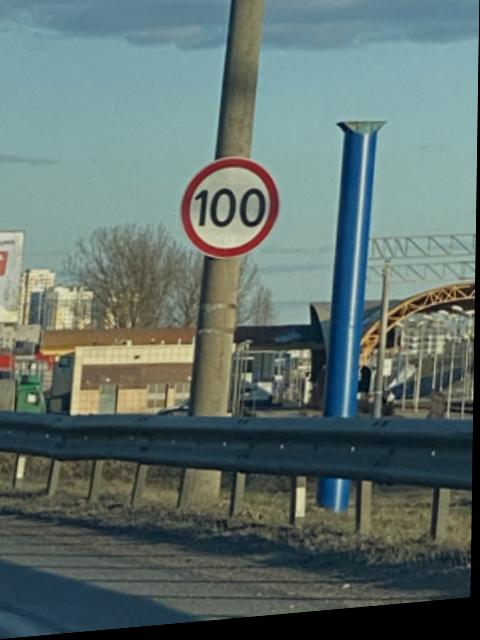limit100: (180, 157, 281, 271)
